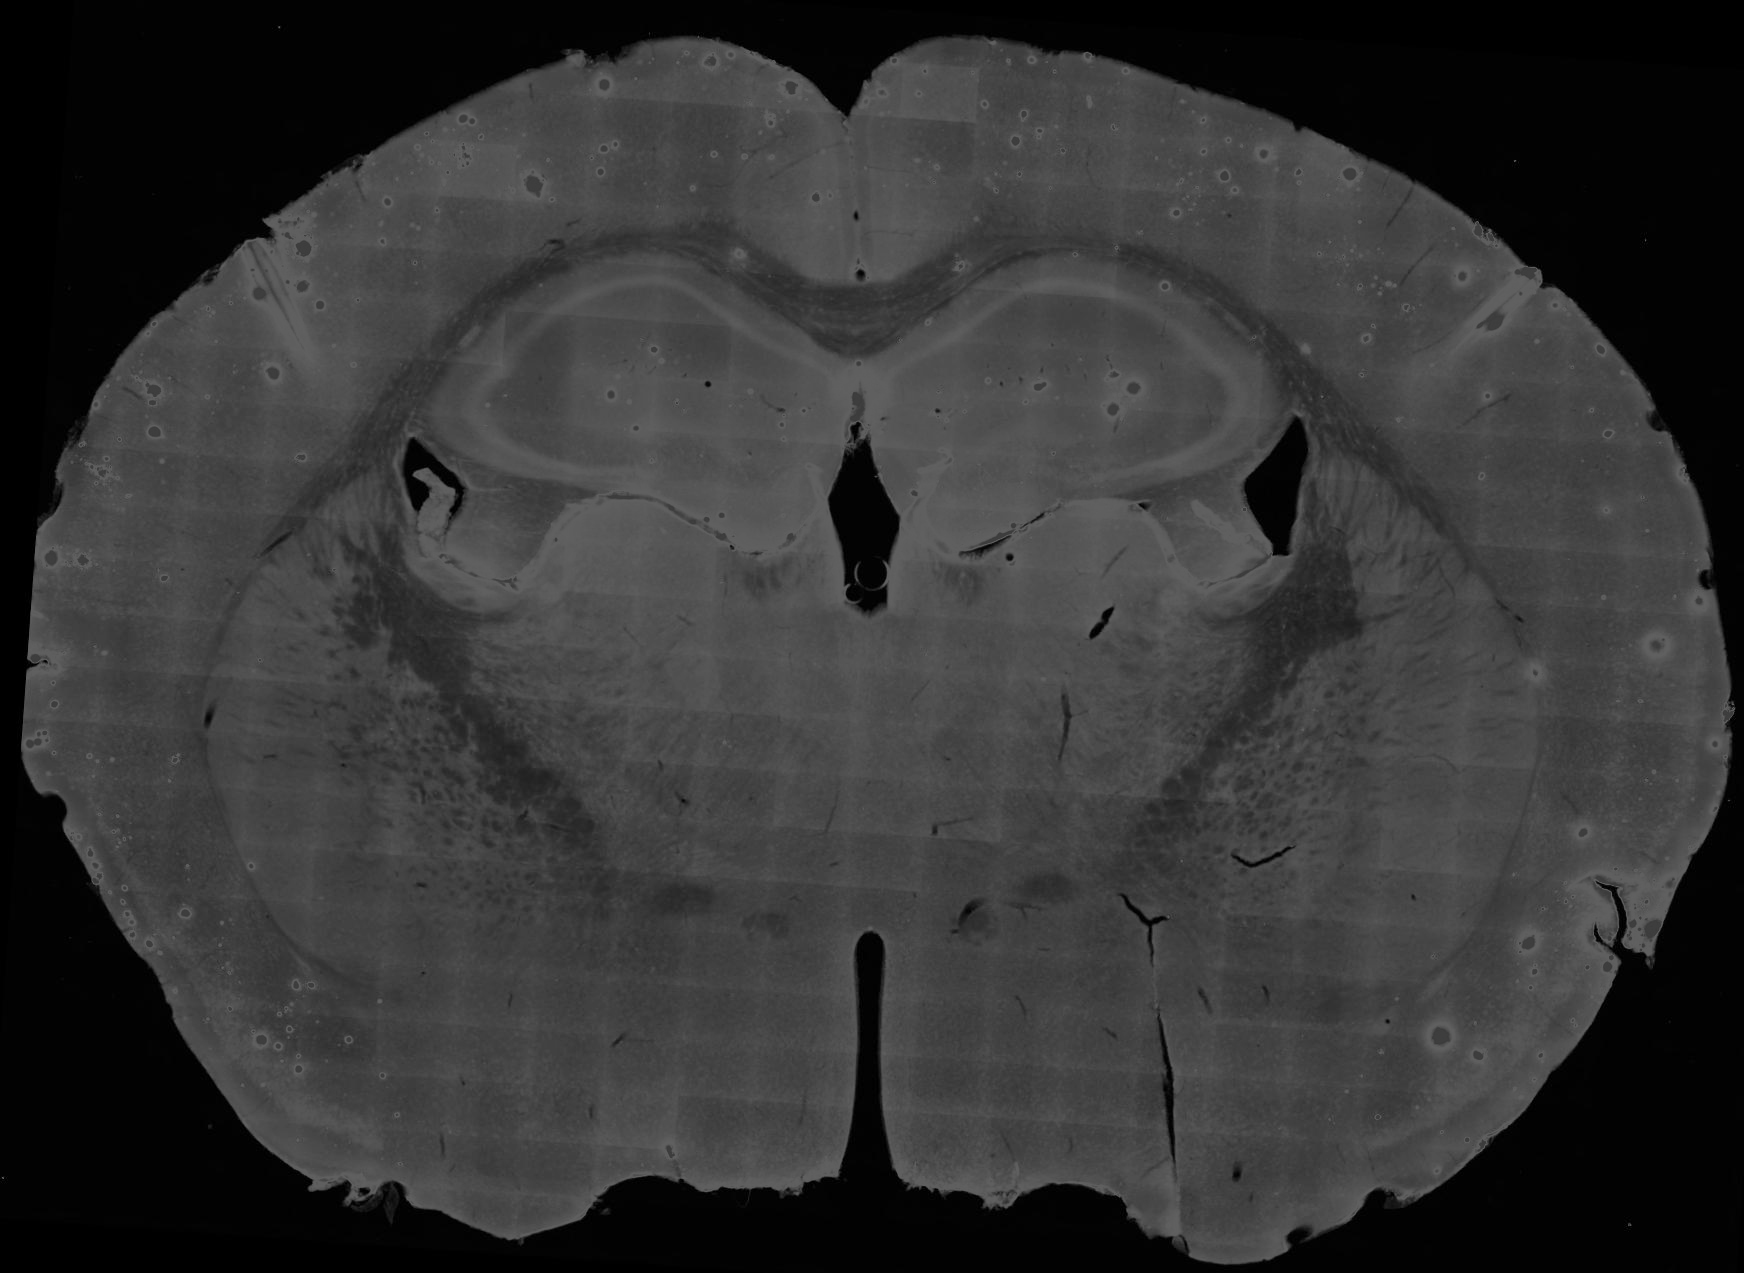Cerebral nuclei: (200, 463, 454, 1004), (1307, 456, 1544, 993)
Hippocampal formation: (429, 252, 857, 551), (863, 255, 1286, 551)
Hypothalamus: (574, 895, 864, 1189)
Retrosplenial area: (705, 56, 863, 288), (844, 47, 978, 288)
Somatosensory area: (1048, 51, 1544, 433), (261, 43, 650, 431)
Thalamus: (464, 492, 871, 898), (865, 498, 1261, 897)
